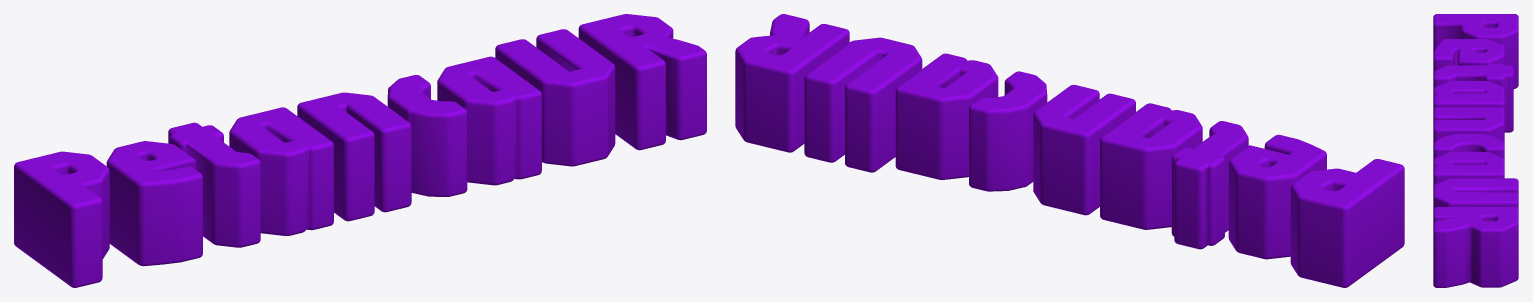
Rendered from TituloPetanca.fbx.
3 renders of one model, left to right at view 1: azimuth 30°, elevation 25°; view 2: azimuth 150°, elevation 25°; view 3: azimuth 270°, elevation 25°, orthographic. The views are drawn at different scales.
Visible parts, largest first — view 1: Text; view 2: Text; view 3: Text.
Part boxes in pixels (x1=…): Text: x1=14, y1=14, x2=706, y2=287; Text: x1=735, y1=14, x2=1404, y2=287; Text: x1=1433, y1=14, x2=1518, y2=287.
Bounding box in the file's own units: 350 × 44 × 58.19.
